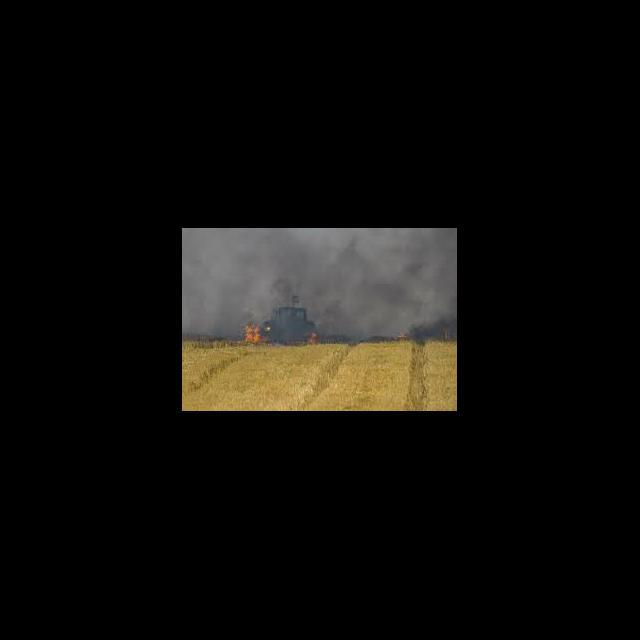Fire: (243, 320, 260, 344), (392, 330, 408, 342), (262, 334, 272, 344), (310, 334, 320, 344)
Smoke: (183, 228, 458, 318)
